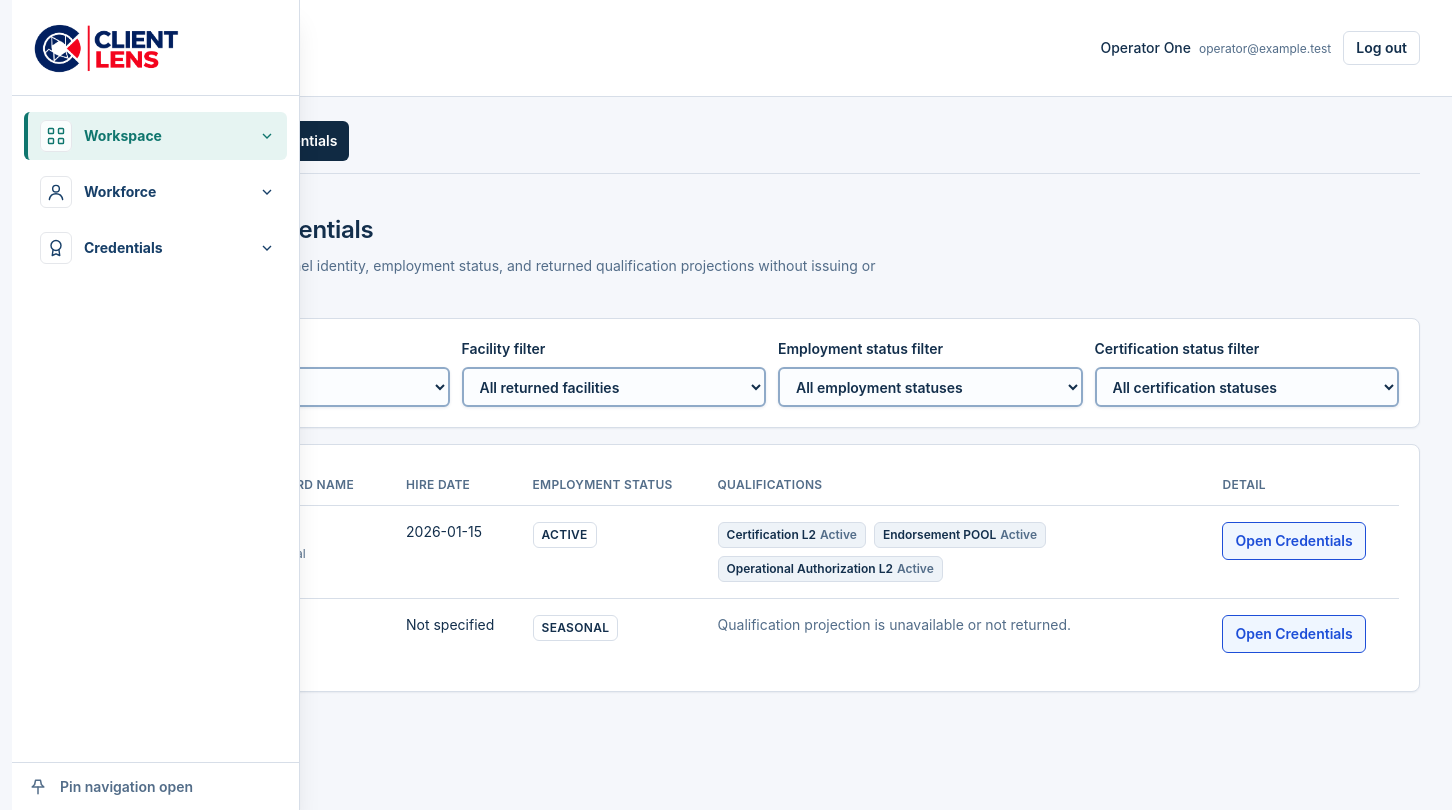
Scenario: Credentials V1 frontend › renders Personnel detail, certifications, endorsements, and operational authorizations
Step 1. Click the link "Open Credentials" in the row of "Ana Santos" → (1294, 541), box [1222,522,1366,560]
(page scrolled)
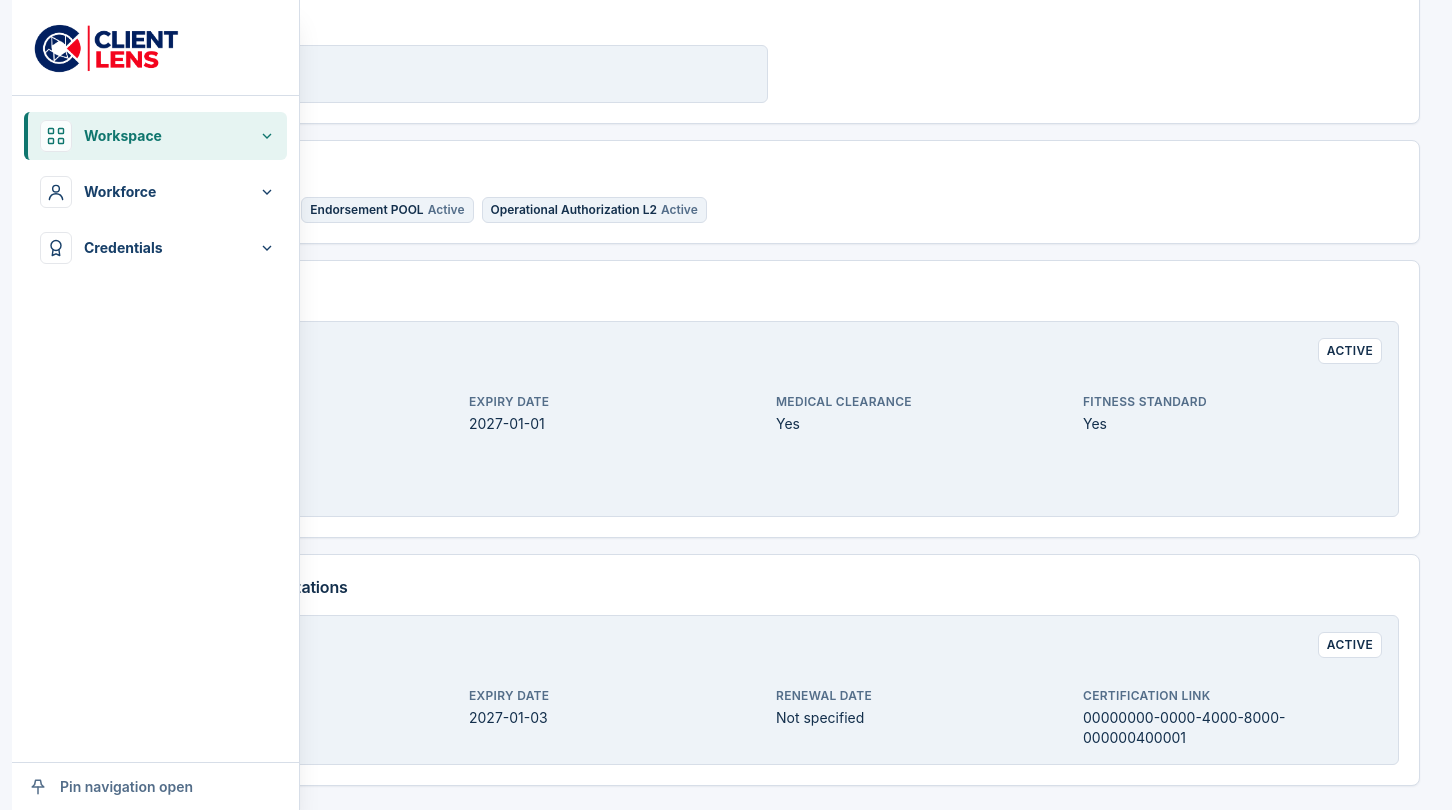
Expected: the text "Makati Training Pool" is shown, [158,55,295,72]
Result: the text "2027-01-01" is shown at [469,415,545,432]
Result: the text "2027-01-03" is shown at [469,709,548,726]
